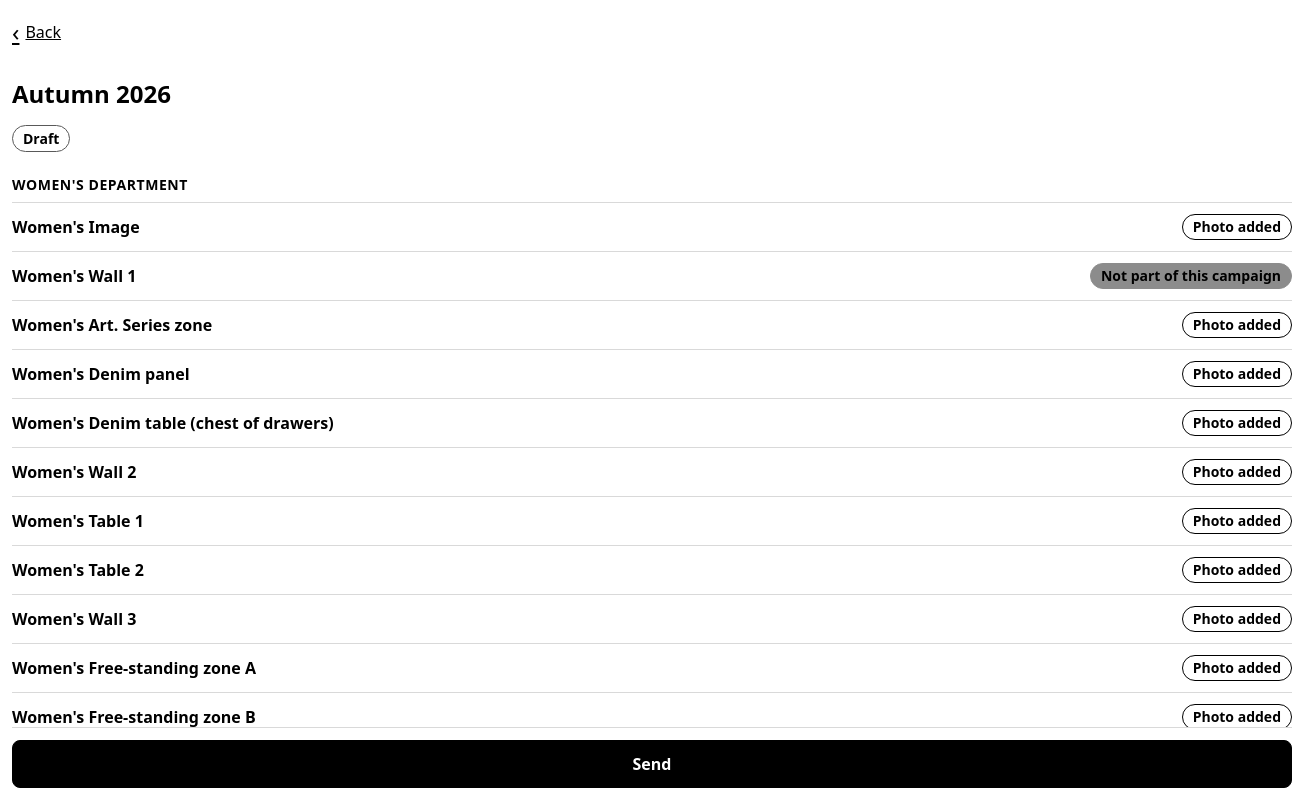
Test: DraftReportPage: send › with every zone done Send is enabled, hides the hint and calls sendReport with the report id
Click the button "Send" at [652, 764], box 12,740 -> 1292,788
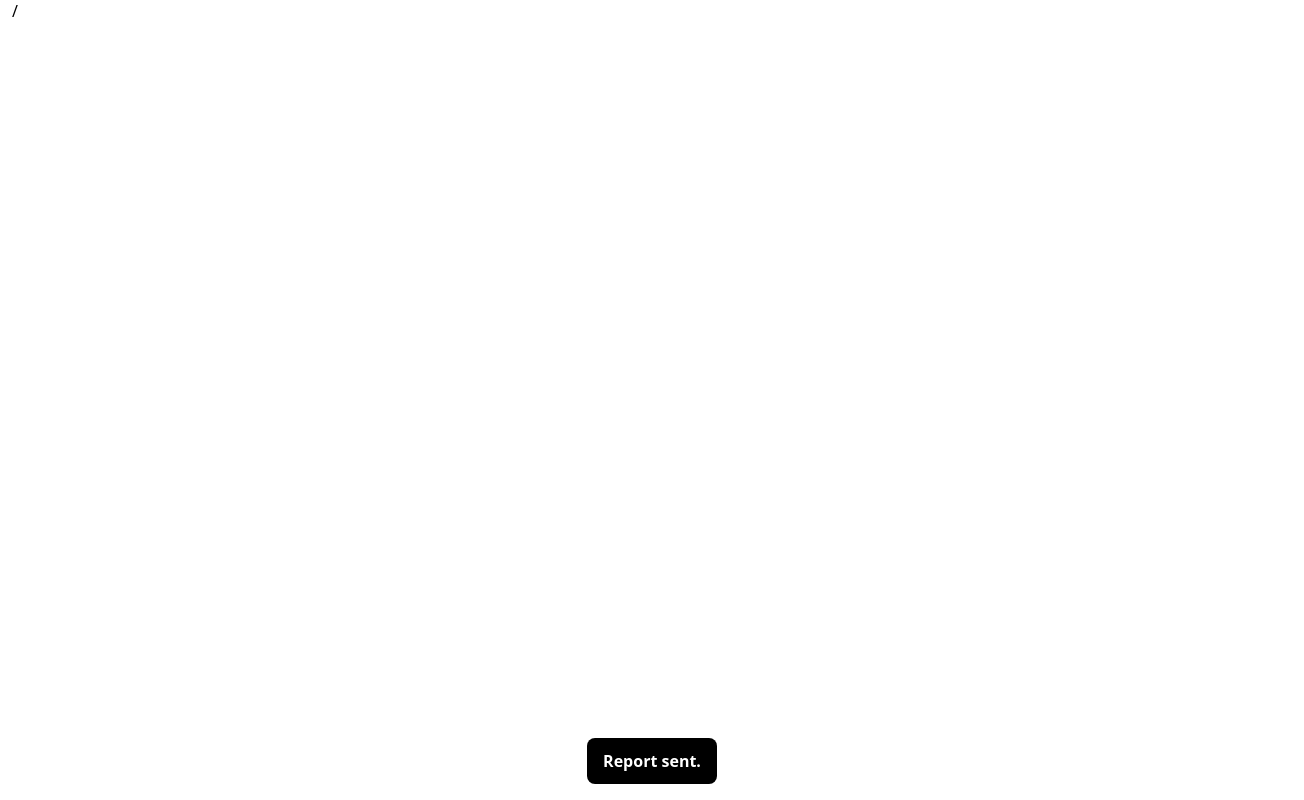
Expected: the text "Report sent." is shown, 603,750 -> 701,772
Expected: the text with test id "where" reads "/", 12,0 -> 18,22
